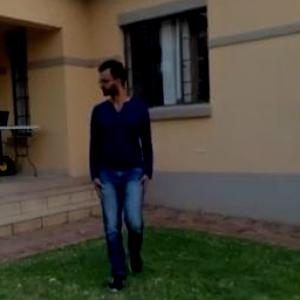follow: (82, 43, 165, 299)
